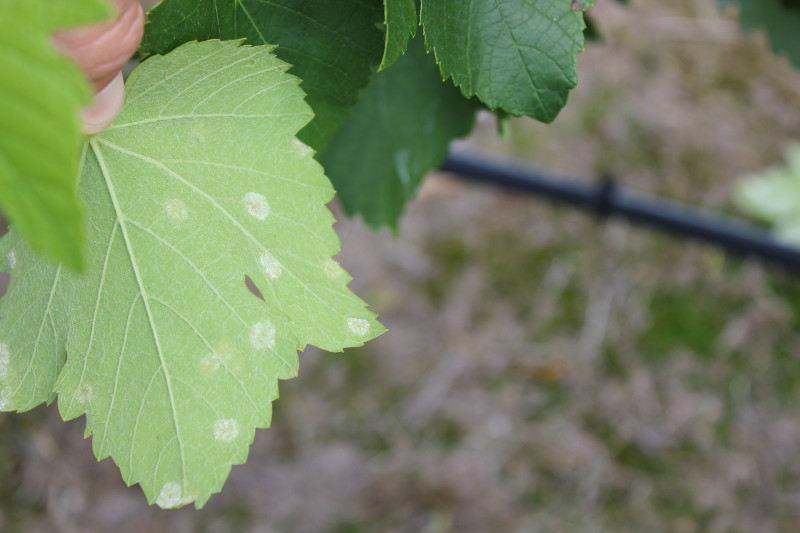downy: (240, 187, 278, 226), (251, 314, 280, 353), (197, 340, 228, 375), (254, 246, 282, 278), (160, 192, 188, 223), (186, 113, 213, 142), (341, 313, 371, 339), (154, 480, 185, 505), (315, 250, 341, 279), (213, 415, 238, 444), (290, 133, 314, 162), (69, 374, 93, 400), (1, 340, 11, 365), (6, 251, 19, 268)
